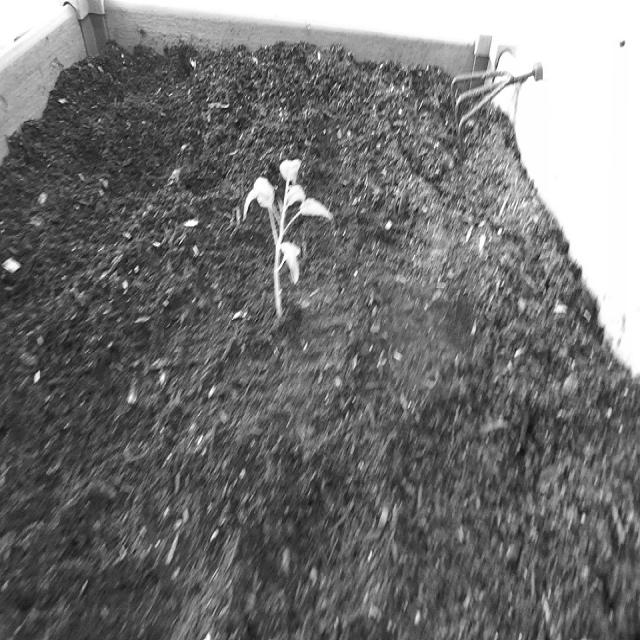Healthy: (234, 137, 340, 332)
